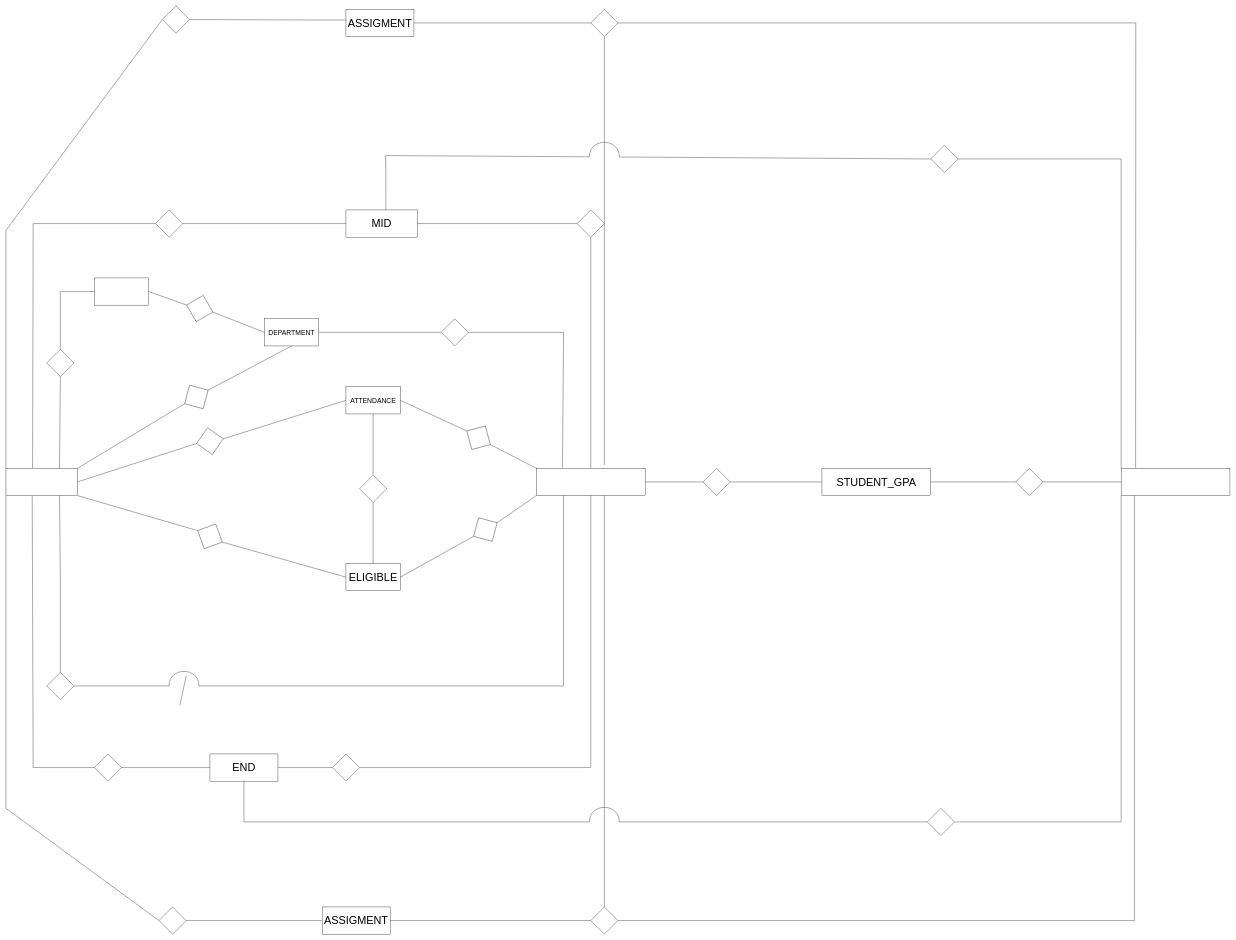
This 1236x940 diagram has some shape labels left out. Each missing label, with the box of its shape:
COURSE: (6, 468, 77, 496)
LECTURE: (94, 278, 149, 305)
MARK: (1121, 468, 1230, 496)
STUDENT: (536, 468, 645, 496)
